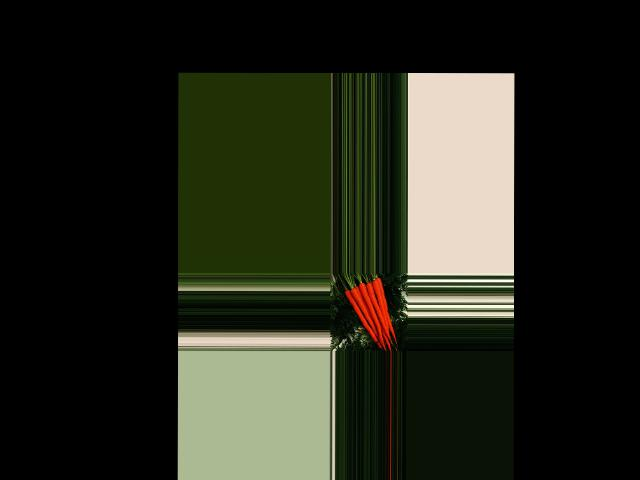carrot: (372, 276, 400, 347)
